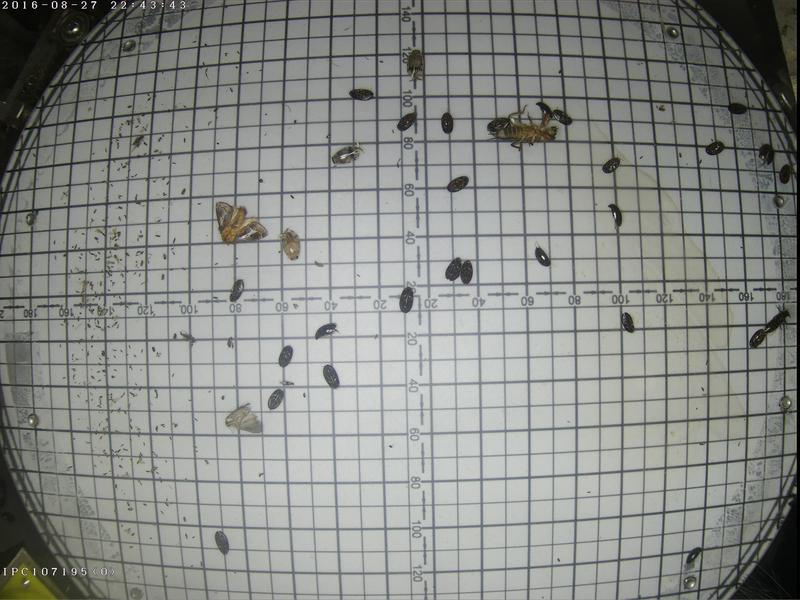Gryllotalpa orientalis: (482, 105, 556, 154)
